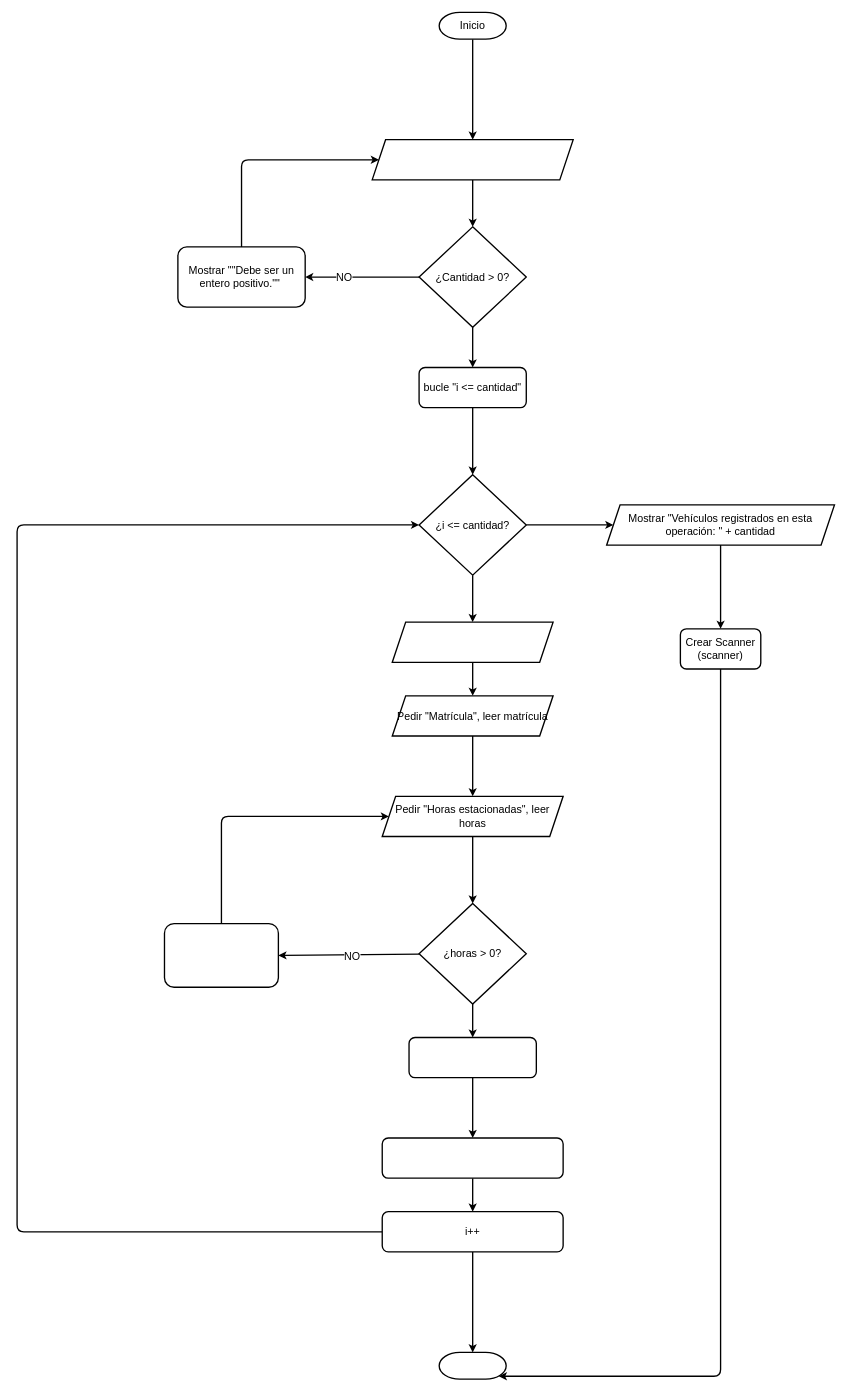
The diagram is 846 pixels wide and 1394 high, and some of its shapes have lost their labels. The centre of each missing label's shape, as x and y in pixels:
Fin: point 472,1365
Mostrar "Las horas deben ser mayores que 0": point 221,955
Mostrar "Vehiculo"+i: point 472,642
Pedir "Cuántos vehículos quieres registrar", leer cantidad: point 472,159
totalHorasRegistradas += horas;: point 472,1158
totalVehiculos++: point 472,1057
